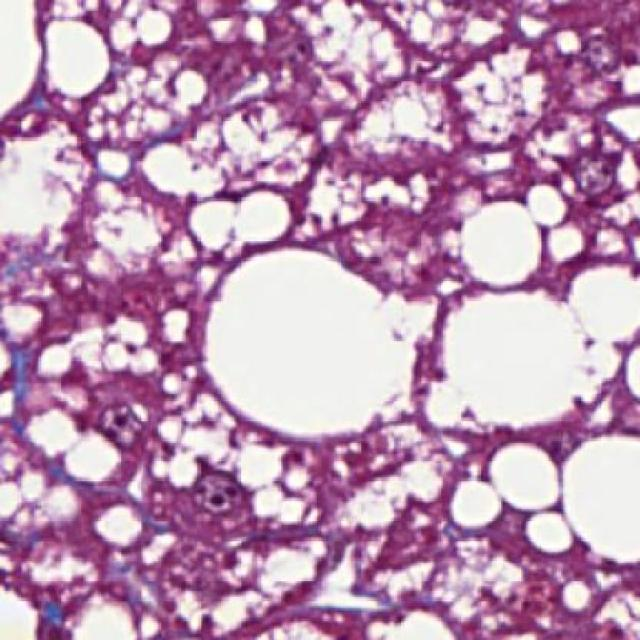steatosis: (205, 248, 423, 433)
